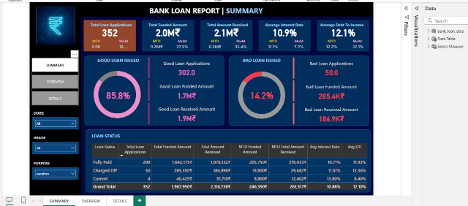

The page's visual inventory and layout, read from the dashboard file:
{"tool":"powerbi","page":{"name":"SUMMARY","canvas":[1280,720],"ordinal":0},"visuals":[{"type":"shape","box":[0,54.9,192,665],"z":0},{"type":"shape","box":[0,0,1281,54.8],"z":1000},{"type":"textbox","box":[440.5,8.3,448.8,46.4],"z":2000},{"type":"shape","box":[852.8,66.4,195.1,117.1],"z":3000,"group":"g4"},{"type":"shape","box":[201.2,66.7,195.1,117.1],"z":3000,"group":"g1"},{"type":"shape","box":[418.4,66.7,195.1,117.1],"z":3000,"group":"g2"},{"type":"shape","box":[635.6,66.7,195.1,117.1],"z":3000,"group":"g3"},{"type":"shape","box":[1070.2,66.7,195.1,117.1],"z":3000,"group":"g5"},{"type":"shape","box":[203.6,200,521.4,259.5],"z":3000},{"type":"group","id":"g1","title":"Group 1","box":[201.2,66.7,195.2,117.9],"z":4000},{"type":"card","fields":{"Values":["bank_loan_data.Avg Interest Rate"]},"box":[874.8,84.7,152.4,53.7],"z":4000,"group":"g4"},{"type":"card","fields":{"Values":["bank_loan_data.Total Loan Applications"]},"box":[223.2,85,152.4,53.7],"z":4000,"group":"g1"},{"type":"card","fields":{"Values":["bank_loan_data.Total Funded Amount"]},"box":[440.4,85,152.4,53.7],"z":4000,"group":"g2"},{"type":"card","fields":{"Values":["bank_loan_data.Total Amount Received"]},"box":[657.6,85,152.4,53.7],"z":4000,"group":"g3"},{"type":"card","fields":{"Values":["bank_loan_data.Avg DTI"]},"box":[1092.2,85,152.4,53.7],"z":4000,"group":"g5"},{"type":"group","id":"g2","title":"Group 1","box":[418.4,66.7,195.2,117.1],"z":5000},{"type":"textbox","box":[873,69.7,175,28.6],"z":5000,"group":"g4"},{"type":"textbox","box":[221.4,70,175,28.6],"z":5000,"group":"g1"},{"type":"textbox","box":[438.6,70,175,28.6],"z":5000,"group":"g2"},{"type":"textbox","box":[655.8,70,175,28.6],"z":5000,"group":"g3"},{"type":"textbox","box":[1077.1,70.7,185.7,35.7],"z":5000,"group":"g5"},{"type":"card","title":"MTD","fields":{"Values":["bank_loan_data.MTD Avd Interest Rate"]},"box":[871.3,135.8,71.4,47.6],"z":6000,"group":"g4"},{"type":"card","title":"MTD","fields":{"Values":["bank_loan_data.MTD Funded Amount"]},"box":[436.9,136.1,71.4,47.6],"z":6000,"group":"g2"},{"type":"card","title":"MTD","fields":{"Values":["bank_loan_data.MTD Total Amount Received"]},"box":[654.1,136.1,71.4,47.6],"z":6000,"group":"g3"},{"type":"card","title":"MTD","fields":{"Values":["bank_loan_data.MTD Avg DTI"]},"box":[1088.7,136.1,71.4,47.6],"z":6000,"group":"g5"},{"type":"card","title":"MTD","fields":{"Values":["bank_loan_data.MTD Loan Applications"]},"box":[223.2,136.2,50,47.6],"z":6000,"group":"g1"},{"type":"textbox","box":[9.5,400,63.1,28.6],"z":6000},{"type":"card","title":"MoM","fields":{"Values":["bank_loan_data.MoM Avg Interest Rate"]},"box":[968.9,135.8,67.9,47.6],"z":7000,"group":"g4"},{"type":"card","title":"MoM","fields":{"Values":["bank_loan_data.MoM Total Funded Amount"]},"box":[534.5,136.1,67.9,47.6],"z":7000,"group":"g2"},{"type":"card","title":"MoM","fields":{"Values":["bank_loan_data.MoM Total Amount Received"]},"box":[751.7,136.1,67.9,47.6],"z":7000,"group":"g3"},{"type":"card","title":"MoM","fields":{"Values":["bank_loan_data.MoM Avg DTI"]},"box":[1186.3,136.1,67.9,47.6],"z":7000,"group":"g5"},{"type":"card","title":"MoM","fields":{"Values":["bank_loan_data.MoM Loan Applications"]},"box":[325.6,136.2,50,47.6],"z":7000,"group":"g1"},{"type":"card","fields":{"Values":["bank_loan_data.Good Loan %"]},"box":[272.6,322.6,114.3,45.2],"z":7000},{"type":"textbox","box":[233.3,200,192.9,38.1],"z":8000},{"type":"group","id":"g3","title":"Group 1","box":[635.6,66.7,195.2,117.9],"z":9000},{"type":"group","id":"g4","title":"Group 1","box":[852.8,66.4,195.5,117],"z":10000},{"type":"shape","box":[742.9,200,522.6,260.7],"z":11000},{"type":"group","id":"g5","title":"Group 1","box":[1070.2,66.7,195.1,117.1],"z":12000},{"type":"shape","box":[208.3,475,1061.9,234.5],"z":13000},{"type":"donutChart","fields":{"Category":["bank_loan_data.Good v Bad Loan"],"Y":["bank_loan_data.Total Loan Applications"]},"box":[201.2,229.8,250,229.8],"z":14000},{"type":"cardVisual","fields":{"Data":["bank_loan_data.Good Loan Applications","bank_loan_data.Good Loan Funded Amount","bank_loan_data.Good Loan Received Amount"]},"box":[436.9,200,296.4,260.7],"z":15000},{"type":"card","fields":{"Values":["bank_loan_data.Bad Loan %"]},"box":[807.1,322.6,114.3,45.2],"z":16000},{"type":"textbox","box":[767.9,200,192.9,38.1],"z":17000},{"type":"donutChart","fields":{"Category":["bank_loan_data.Good v Bad Loan"],"Y":["bank_loan_data.Total Loan Applications"]},"box":[739.3,232.1,250,229.8],"z":18000},{"type":"cardVisual","fields":{"Data":["bank_loan_data.Bad Loan Applications","bank_loan_data.Bad Loan Funded Amount","bank_loan_data.Bad Loan Received Amount"]},"box":[976.2,201.2,296.4,260.7],"z":19000},{"type":"tableEx","fields":{"Values":["bank_loan_data.loan_status","bank_loan_data.Total Loan Applications","bank_loan_data.Total Funded Amount","bank_loan_data.Total Amount Received","bank_loan_data.MTD Funded Amount","bank_loan_data.MTD Total Amount Received","bank_loan_data.Avg Interest Rate","bank_loan_data.Avg DTI"]},"box":[225,520.2,1040.5,189.3],"z":20000},{"type":"textbox","box":[226.2,482.1,146.4,38.1],"z":21000},{"type":"slicer","fields":{"Values":["bank_loan_data.address_state"]},"box":[9.5,428.6,172.6,46.4],"z":22000},{"type":"slicer","fields":{"Values":["bank_loan_data.grade"]},"box":[9.5,520.2,172.6,46.4],"z":23000},{"type":"textbox","box":[9.5,491.7,63.1,28.6],"z":24000},{"type":"textbox","box":[9.5,586.9,86.9,28.6],"z":25000},{"type":"slicer","fields":{"Values":["bank_loan_data.purpose"]},"box":[9.5,615.5,172.6,46.4],"z":26000},{"type":"image","box":[18.8,12.5,156.2,152.5],"z":27000},{"type":"pageNavigator","box":[8.8,208.8,173.8,178.8],"z":28000}]}

Visuals, with their boxes on the page's 1280x720 design canvas (x1, y1, x2, y2). These are canvas units, not pixel positions in the 468x206 screenshot, which may show the page scaled, cropped or inside an application window:
shape: crop(0, 55, 192, 720)
shape: crop(0, 0, 1281, 55)
textbox: crop(440, 8, 889, 55)
shape: crop(853, 66, 1048, 184)
shape: crop(201, 67, 396, 184)
shape: crop(418, 67, 614, 184)
shape: crop(636, 67, 831, 184)
shape: crop(1070, 67, 1265, 184)
shape: crop(204, 200, 725, 460)
"Group 1" group: crop(201, 67, 396, 185)
card - bank_loan_data.Avg Interest Rate: crop(875, 85, 1027, 138)
card - bank_loan_data.Total Loan Applications: crop(223, 85, 376, 139)
card - bank_loan_data.Total Funded Amount: crop(440, 85, 593, 139)
card - bank_loan_data.Total Amount Received: crop(658, 85, 810, 139)
card - bank_loan_data.Avg DTI: crop(1092, 85, 1245, 139)
"Group 1" group: crop(418, 67, 614, 184)
textbox: crop(873, 70, 1048, 98)
textbox: crop(221, 70, 396, 99)
textbox: crop(439, 70, 614, 99)
textbox: crop(656, 70, 831, 99)
textbox: crop(1077, 71, 1263, 106)
"MTD" card: crop(871, 136, 943, 183)
"MTD" card: crop(437, 136, 508, 184)
"MTD" card: crop(654, 136, 726, 184)
"MTD" card: crop(1089, 136, 1160, 184)
"MTD" card: crop(223, 136, 273, 184)
textbox: crop(10, 400, 73, 429)
"MoM" card: crop(969, 136, 1037, 183)
"MoM" card: crop(534, 136, 602, 184)
"MoM" card: crop(752, 136, 820, 184)
"MoM" card: crop(1186, 136, 1254, 184)
"MoM" card: crop(326, 136, 376, 184)
card - bank_loan_data.Good Loan %: crop(273, 323, 387, 368)
textbox: crop(233, 200, 426, 238)
"Group 1" group: crop(636, 67, 831, 185)
"Group 1" group: crop(853, 66, 1048, 183)
shape: crop(743, 200, 1266, 461)
"Group 1" group: crop(1070, 67, 1265, 184)
shape: crop(208, 475, 1270, 710)
donutChart - bank_loan_data.Good v Bad Loan x bank_loan_data.Total Loan Applications: crop(201, 230, 451, 460)
cardVisual - bank_loan_data.Good Loan Applications x bank_loan_data.Good Loan Funded Amount: crop(437, 200, 733, 461)
card - bank_loan_data.Bad Loan %: crop(807, 323, 921, 368)
textbox: crop(768, 200, 961, 238)
donutChart - bank_loan_data.Good v Bad Loan x bank_loan_data.Total Loan Applications: crop(739, 232, 989, 462)
cardVisual - bank_loan_data.Bad Loan Applications x bank_loan_data.Bad Loan Funded Amount: crop(976, 201, 1273, 462)
tableEx - bank_loan_data.loan_status x bank_loan_data.Total Loan Applications: crop(225, 520, 1266, 710)
textbox: crop(226, 482, 373, 520)
slicer - bank_loan_data.address_state: crop(10, 429, 182, 475)
slicer - bank_loan_data.grade: crop(10, 520, 182, 567)
textbox: crop(10, 492, 73, 520)
textbox: crop(10, 587, 96, 616)
slicer - bank_loan_data.purpose: crop(10, 616, 182, 662)
image: crop(19, 12, 175, 165)
pageNavigator: crop(9, 209, 183, 388)
